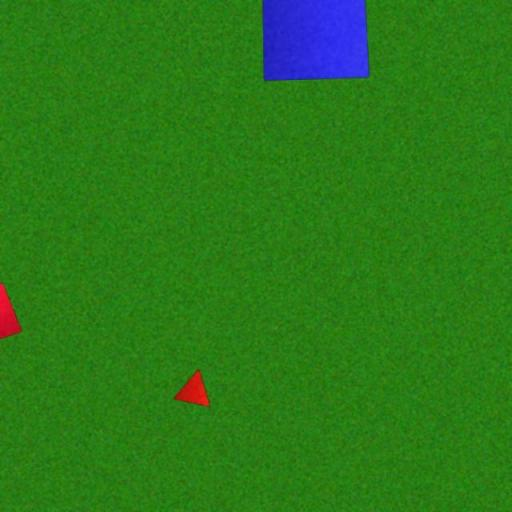BLUE_SQUARE: (262, 0, 370, 82)
RED_SQUARE: (0, 282, 23, 350)
